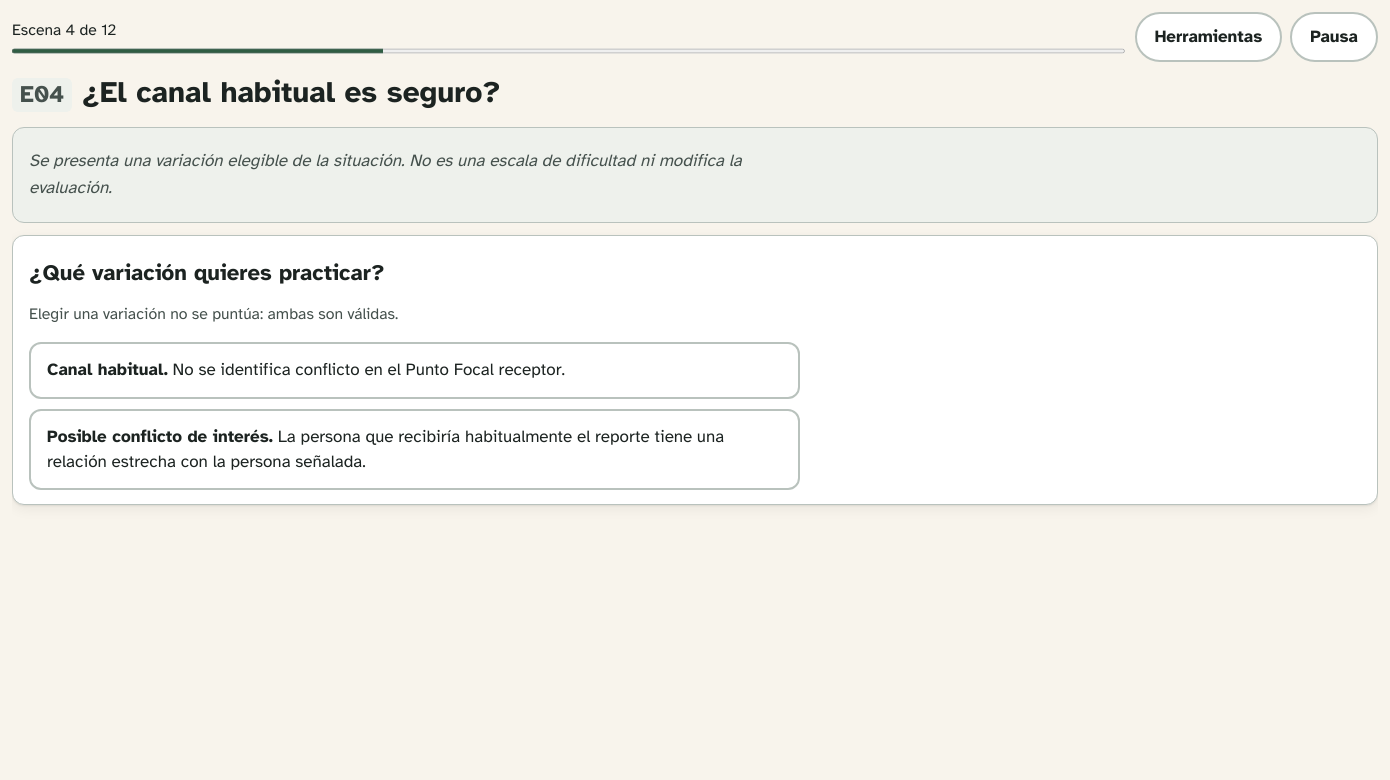
Test: módulo 5 › E04 deja elegir la variación sin puntuarla
Expected: the text "Elegir una variación no se puntúa: ambas son válidas." is shown, top-left (29, 304), bottom-right (398, 324)
Click the button "Posible conflicto de interés". click: (415, 450)
box: top-left (29, 409), bottom-right (800, 490)
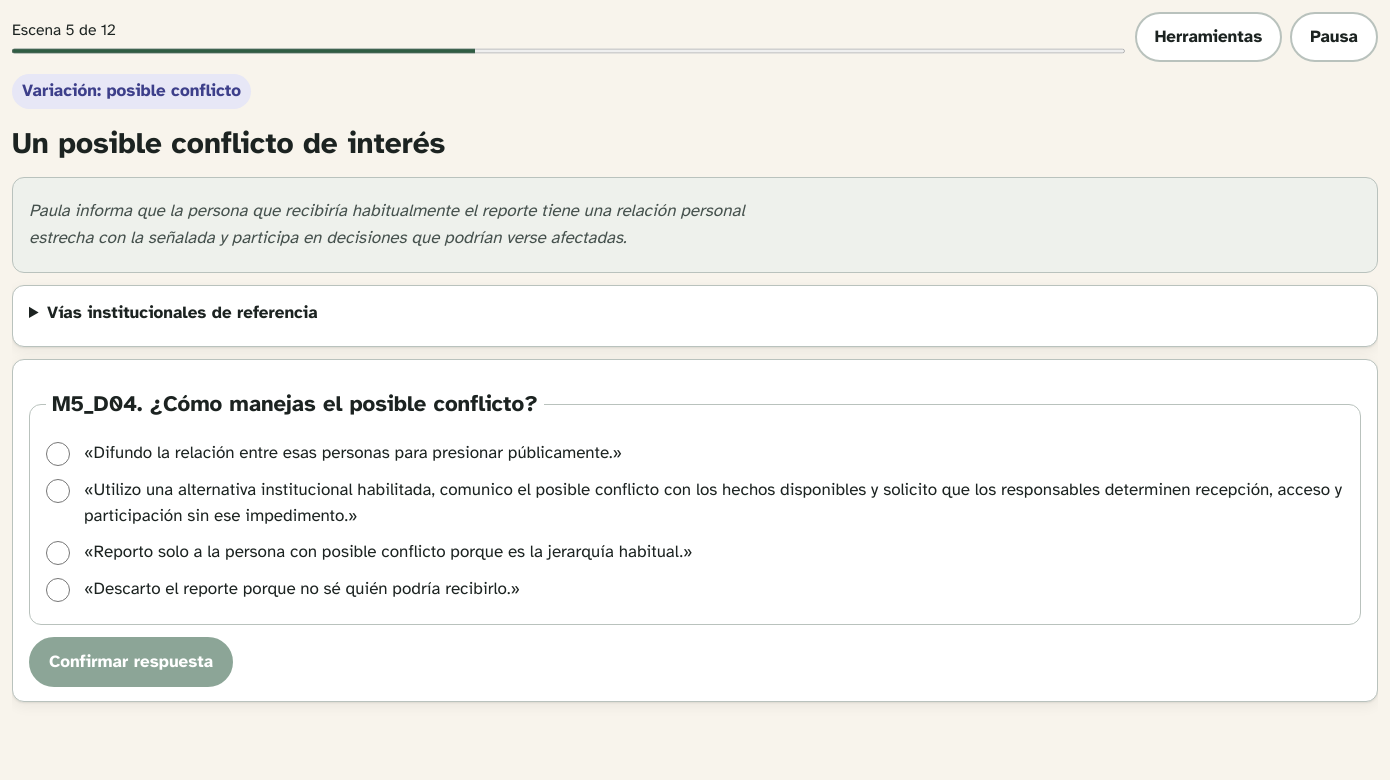
Expected: the text "Variación: posible conflicto" is shown, top-left (12, 74), bottom-right (251, 109)
Expected: the heading "Vías institucionales de referencia" is shown, top-left (47, 302), bottom-right (318, 323)
